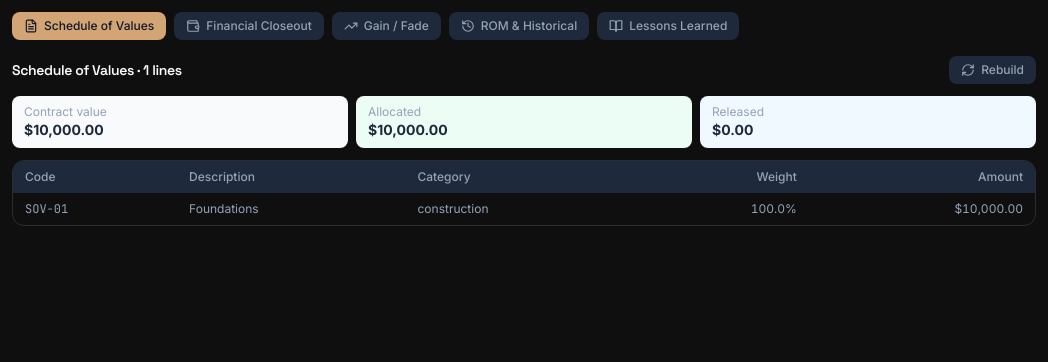
Test case: CloseoutPanel › financial closeout computes a balance due and status pill
The image size is (1048, 362).
Step 1. Click the button "Financial Closeout" → (249, 26), box x1=174 y1=12 x2=324 y2=40
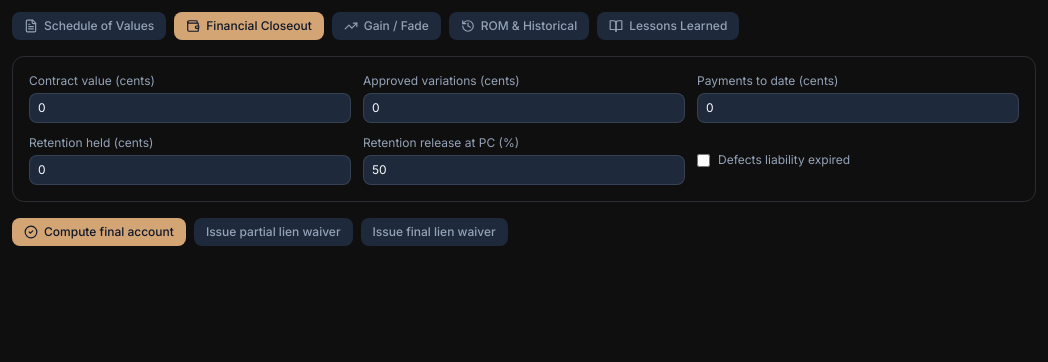
Step 2. Replace the text in the number field labelled "Payments to date (cents)" with "700000" → (858, 108), box x1=697 y1=93 x2=1019 y2=123
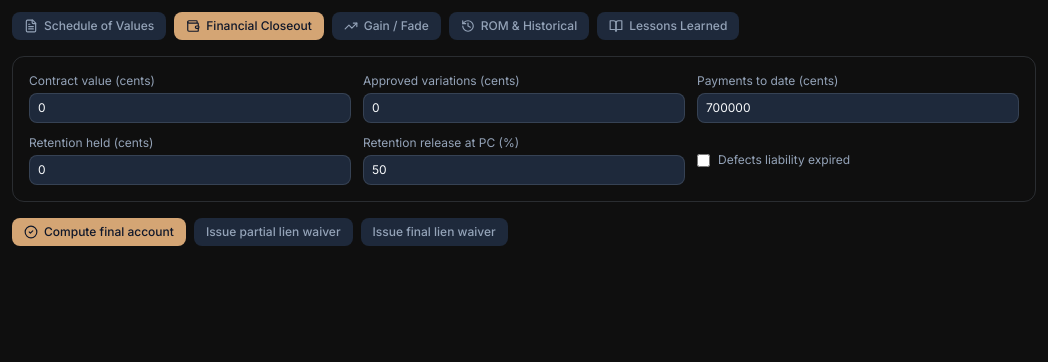
Step 3. Replace the text in the number field labelled "Retention held (cents)" with "100000" → (190, 170), box x1=29 y1=155 x2=351 y2=185
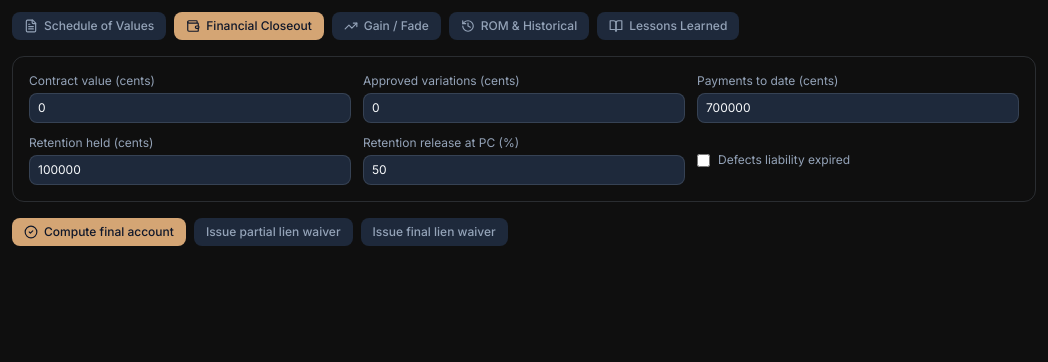
Step 4. Click the button "Compute final account" → (99, 232), box x1=12 y1=218 x2=186 y2=246
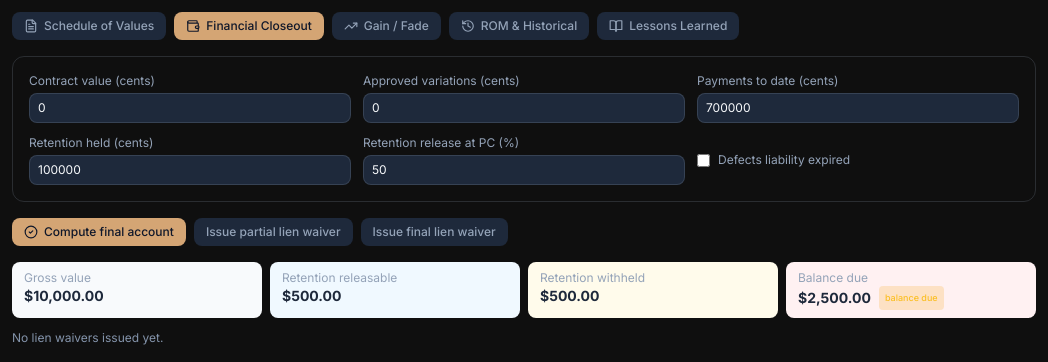
Result: the text "balance due" is shown at x1=879 y1=286 x2=944 y2=310
Result: the text "Retention withheld" is shown at x1=540 y1=270 x2=645 y2=285
Result: the text "$2,500.00" is shown at x1=798 y1=289 x2=871 y2=306
